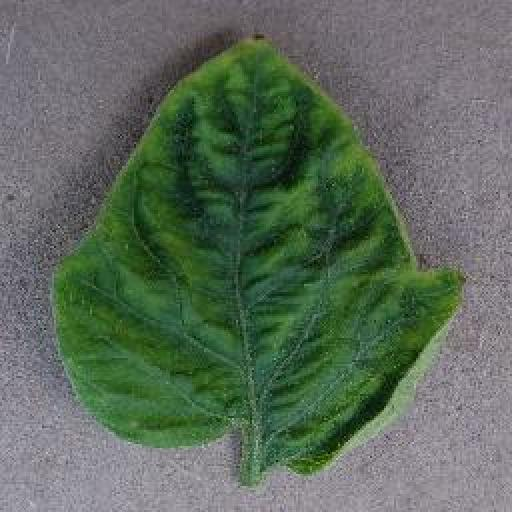disease_tomato: (50, 27, 463, 477)
